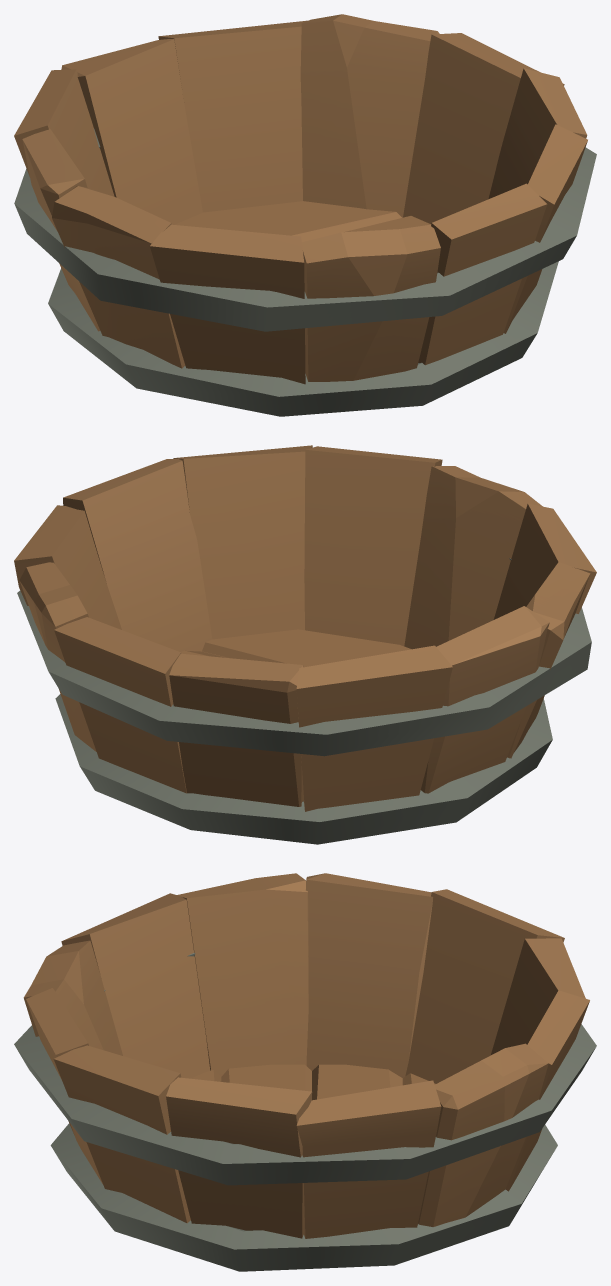
File: Manger_C.fbx
3 views of the same model, one above another, from view 1: azimuth 30°, elevation 25°; view 2: azimuth 150°, elevation 25°; view 3: azimuth 270°, elevation 25° (orthographic).
Visible parts, largest first — view 1: Manger_C; view 2: Manger_C; view 3: Manger_C.
Part boxes in pixels (x1,y1,x2,y2): Manger_C: (14, 14, 596, 416); Manger_C: (14, 445, 596, 844); Manger_C: (14, 873, 596, 1271).
Bounding box in the file's own units: 156 × 56.29 × 156.
